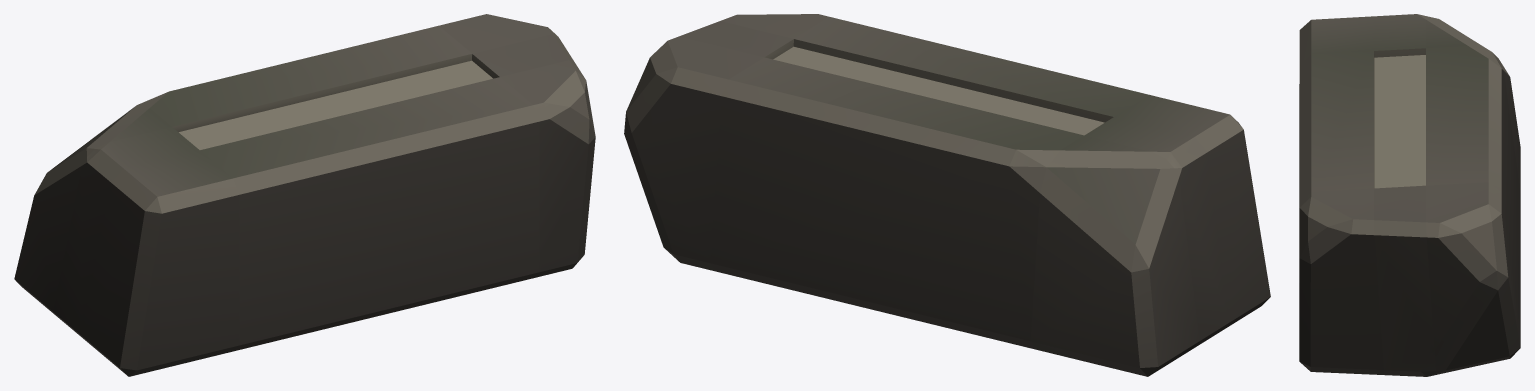
File: stone_tick.glb
3 renders of one model, left to right at view 1: azimuth 30°, elevation 25°; view 2: azimuth 150°, elevation 25°; view 3: azimuth 270°, elevation 25°, orthographic. The views are drawn at different scales.
Visible parts, largest first — view 1: stone_tick; view 2: stone_tick; view 3: stone_tick.
Part boxes in pixels (x1,y1,x2,y2): stone_tick: (14, 14, 595, 376); stone_tick: (624, 14, 1270, 376); stone_tick: (1299, 14, 1520, 376).
Bounding box in the file's own units: 0.7435 × 0.2548 × 0.2975.
